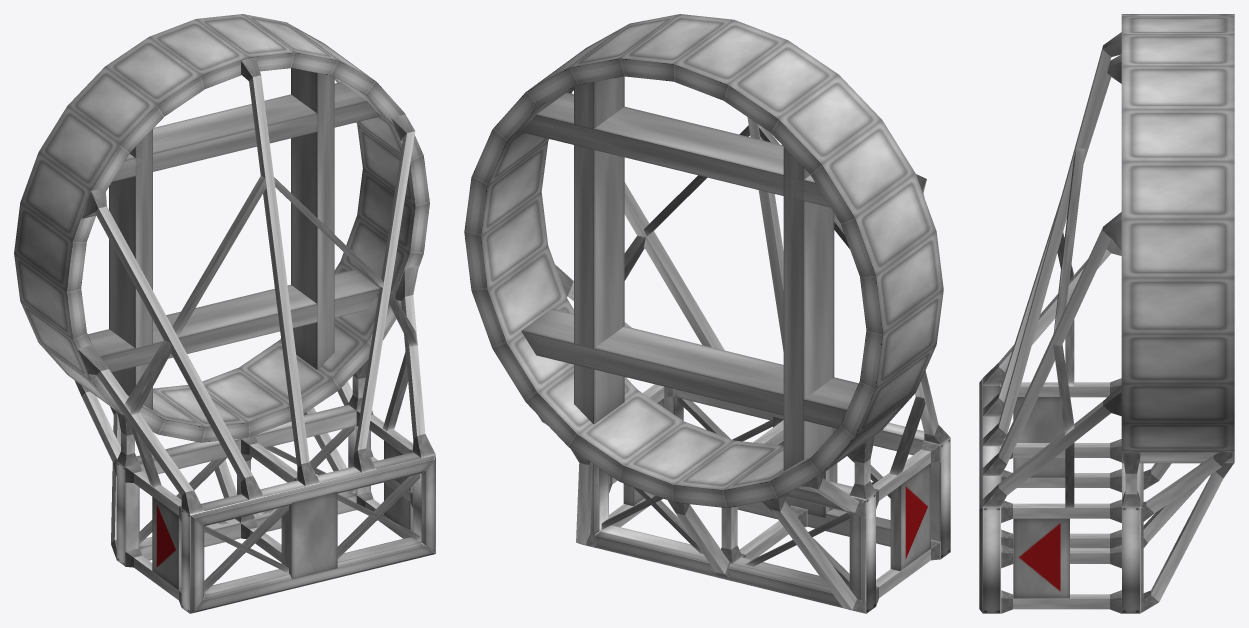
Rendered from ChassisDecoupler.FBX.
The picture shows the model from 3 angles, left to right: view 1: azimuth 30°, elevation 25°; view 2: azimuth 150°, elevation 25°; view 3: azimuth 270°, elevation 25°; orthographic projection. The views are drawn at different scales.
Visible parts, largest first — view 1: Tube001, Frame001, SideHardpoint017, SideHardpoint020, SideHardpoint019, SideHardpoint018, Frame009, Pilar067, Pilar065, Pilar066, SideHardpoint004, Pilar063 (+22 smaller); view 2: Tube001, SideHardpoint017, SideHardpoint020, SideHardpoint018, SideHardpoint019, Frame009, Frame001, SideHardpoint021, Pilar066, Pilar060, Pilar067, Pilar062 (+13 smaller); view 3: Tube001, Pilar067, SideHardpoint022, Pilar066, Frame001, Pilar064, Frame009, SideHardpoint021, Pilar061, Pilar065, Pilar051, Bracing090 (+14 smaller).
Boxes of the visible parts, <box> form: Tube001: <box>14,14,429,442</box>; Frame001: <box>181,452,435,613</box>; SideHardpoint017: <box>291,68,334,369</box>; SideHardpoint020: <box>88,269,379,372</box>; SideHardpoint019: <box>112,82,380,181</box>; SideHardpoint018: <box>109,129,152,409</box>; Frame009: <box>116,404,370,566</box>; Pilar067: <box>241,57,319,486</box>; Pilar065: <box>81,188,263,499</box>; Pilar066: <box>353,114,415,472</box>; SideHardpoint004: <box>281,491,337,579</box>; Pilar063: <box>78,345,204,514</box>; Tube001: <box>464,14,943,508</box>; SideHardpoint017: <box>574,76,624,424</box>; SideHardpoint020: <box>521,308,858,428</box>; SideHardpoint018: <box>783,147,834,470</box>; SideHardpoint019: <box>521,92,830,207</box>; Frame009: <box>590,464,875,613</box>; Frame001: <box>664,389,950,558</box>; SideHardpoint021: <box>890,463,930,571</box>; Pilar066: <box>571,93,724,350</box>; Pilar060: <box>762,493,866,613</box>; Pilar067: <box>747,117,783,351</box>; Pilar062: <box>668,500,730,580</box>; Tube001: <box>1121,14,1234,463</box>; Pilar067: <box>982,32,1121,446</box>; SideHardpoint022: <box>1013,518,1069,598</box>; Pilar066: <box>982,212,1121,475</box>; Frame001: <box>979,378,1000,613</box>; Pilar064: <box>982,385,1121,506</box>; Frame009: <box>1122,463,1143,613</box>; SideHardpoint021: <box>1013,397,1065,477</box>; Pilar061: <box>1140,463,1233,613</box>; Pilar065: <box>982,54,1121,416</box>; Pilar051: <box>1001,499,1121,522</box>; Bracing090: <box>1053,148,1085,332</box>.
Size of what is drawn, in the model's own units: 1.25 by 1.58 by 0.7087.
